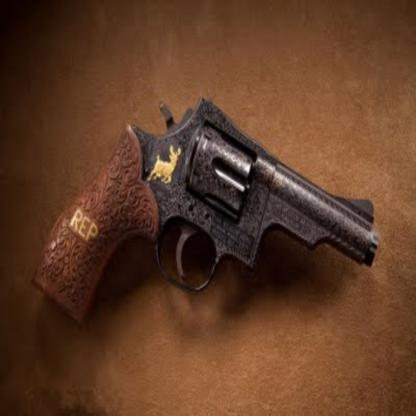Handgun: (32, 96, 380, 326)
